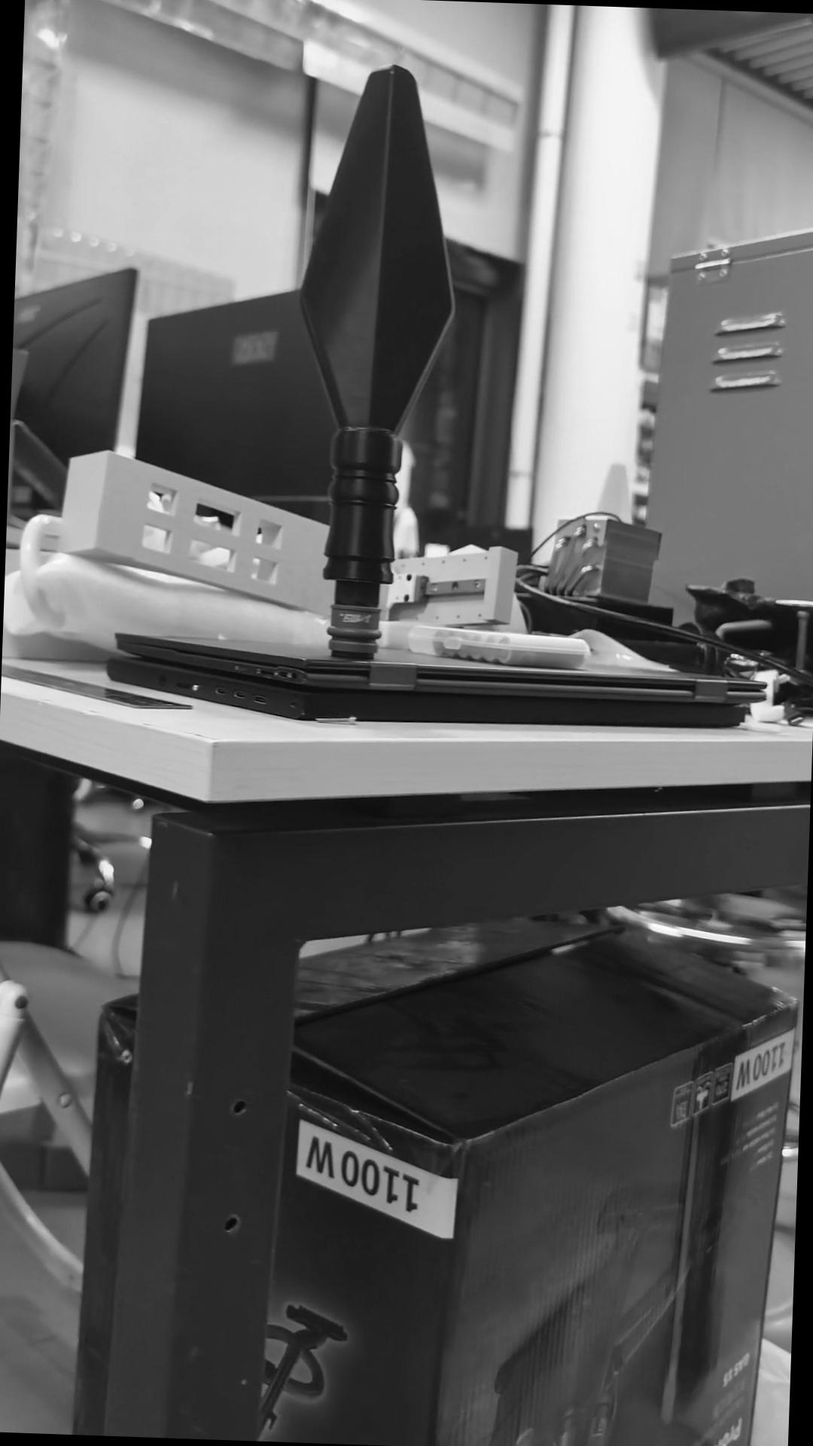base: (323, 600, 383, 667)
